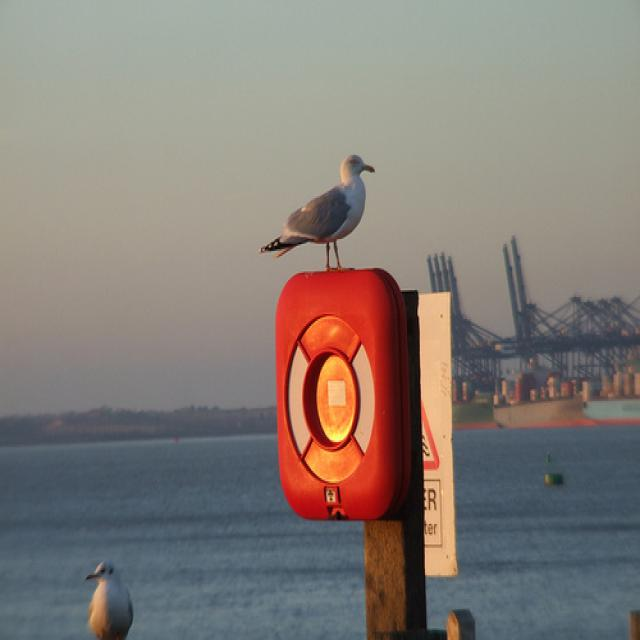bird: (257, 153, 379, 271), (88, 558, 137, 640)
boat: (494, 378, 604, 431), (583, 371, 640, 428), (453, 380, 503, 431)
